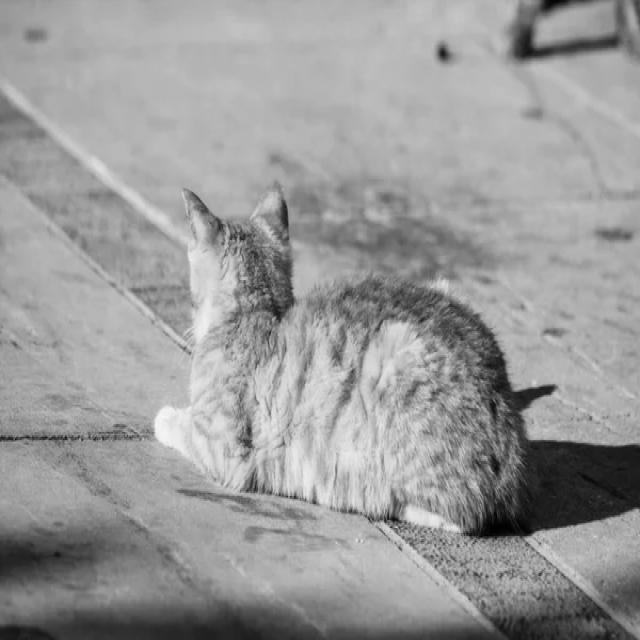Animal: (154, 181, 538, 534)
